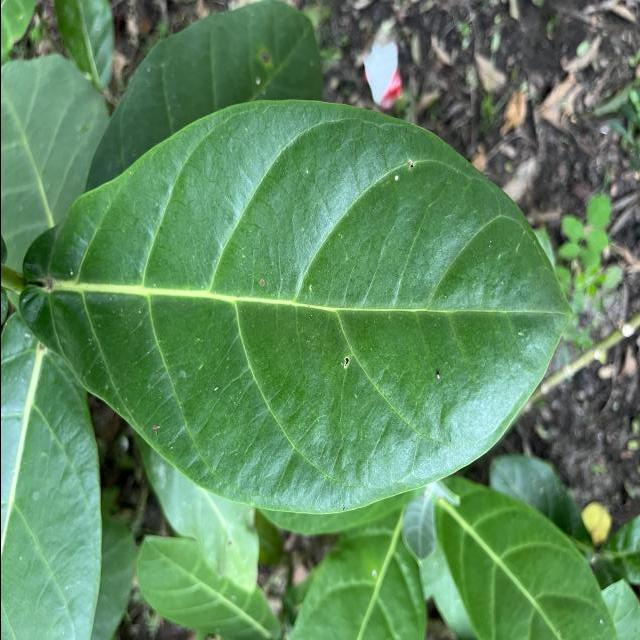Calotropis gigantea: (16, 98, 575, 520), (429, 485, 631, 640)
